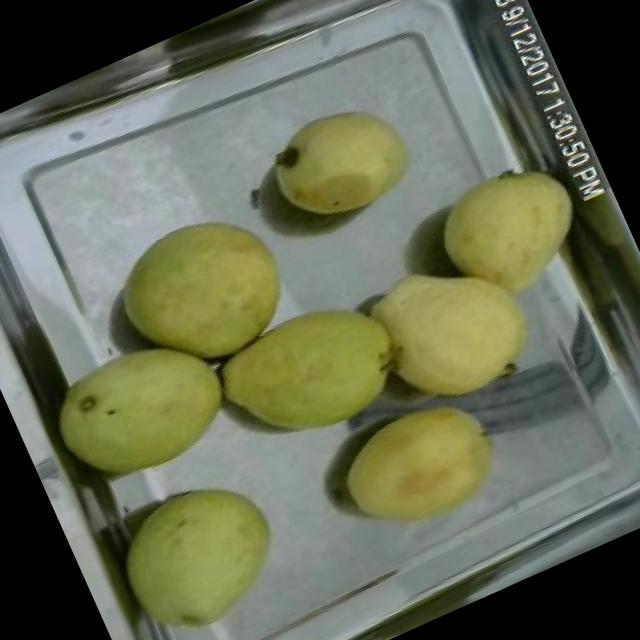Fruit: (344, 222, 567, 434), (95, 187, 316, 396), (198, 272, 427, 472), (31, 308, 256, 508), (315, 368, 531, 566), (92, 454, 306, 640), (414, 136, 616, 330), (251, 81, 431, 245)
